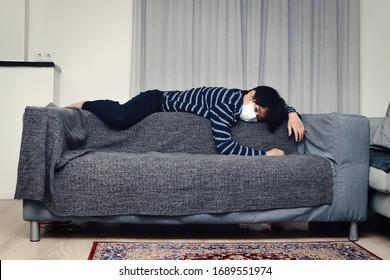OK: (239, 99, 267, 124)
